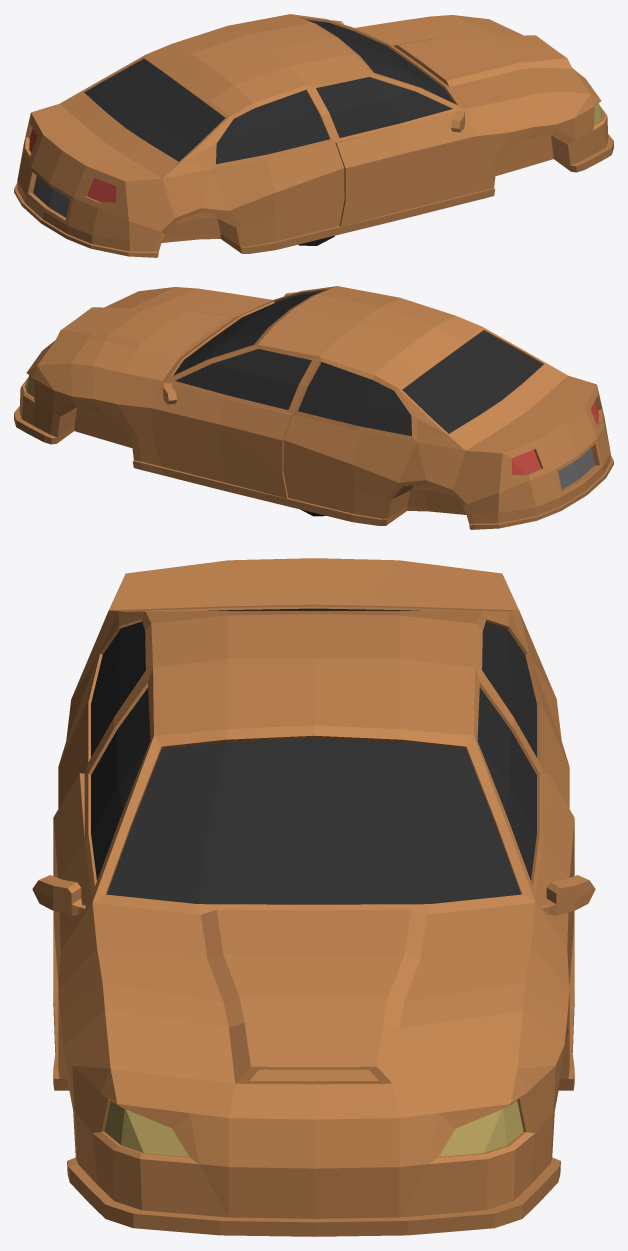
Rendered from sports.glb.
The picture shows the model from 3 angles, top to bottom: view 1: azimuth 30°, elevation 25°; view 2: azimuth 150°, elevation 25°; view 3: azimuth 270°, elevation 25°; orthographic projection. The views are drawn at different scales.
Parts seen in each view (by area): view 1: sports_Body, sports_Glass, sports_Trim, sports_Tail; view 2: sports_Body, sports_Glass, sports_Trim, sports_Tail; view 3: sports_Body, sports_Glass, sports_Head.
Part boxes in pixels (x1,y1,x2,y2): sports_Body: [14, 14, 613, 257]; sports_Glass: [84, 20, 454, 164]; sports_Trim: [33, 176, 69, 217]; sports_Tail: [29, 128, 116, 202]; sports_Body: [14, 286, 613, 529]; sports_Glass: [173, 292, 543, 436]; sports_Trim: [558, 448, 594, 489]; sports_Tail: [511, 400, 598, 474]; sports_Body: [32, 558, 595, 1236]; sports_Glass: [91, 608, 536, 904]; sports_Head: [104, 1100, 523, 1156].
Bounding box in the file's own units: 4.25 × 1.52 × 1.93.
